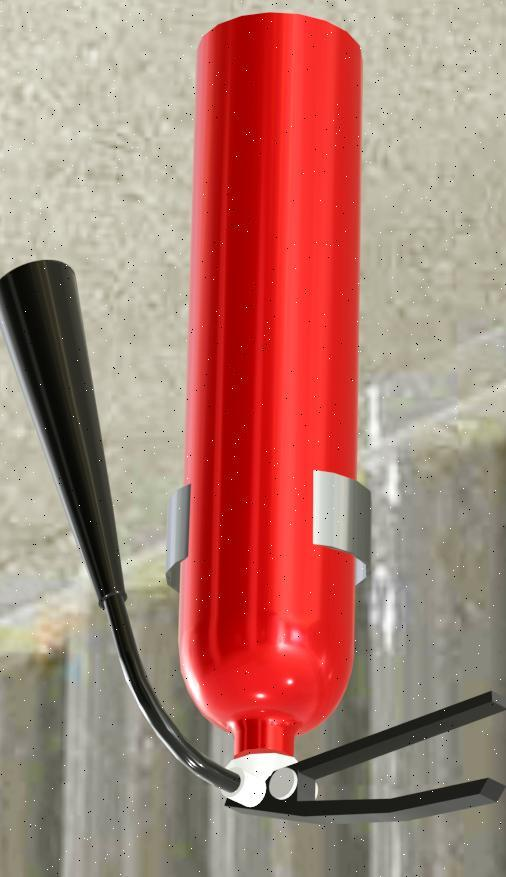Fire Extinguisher: (0, 5, 506, 850)
